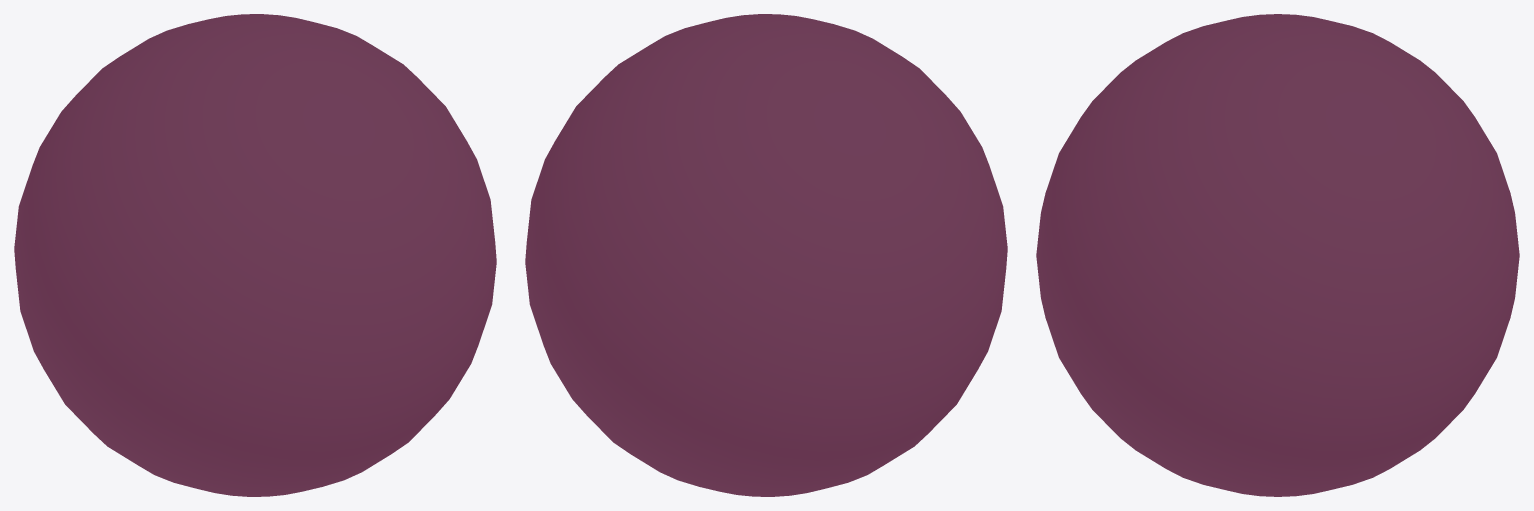
The model's file is Ball__001.fbx.
3 views of the same model, side by side, from view 1: azimuth 30°, elevation 25°; view 2: azimuth 150°, elevation 25°; view 3: azimuth 270°, elevation 25° (orthographic).
Visible parts, largest first — view 1: Ball; view 2: Ball; view 3: Ball.
Boxes of the visible parts, x1,y1,x2,y2 form: Ball: [14, 14, 496, 496]; Ball: [525, 14, 1007, 496]; Ball: [1036, 14, 1519, 496].
Bounding box in the file's own units: 45.44 × 45.44 × 45.44.
